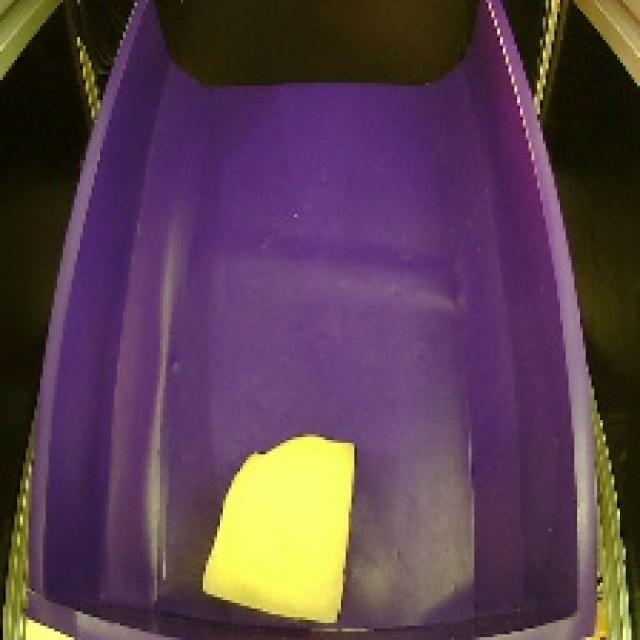potato: (192, 424, 364, 634)
